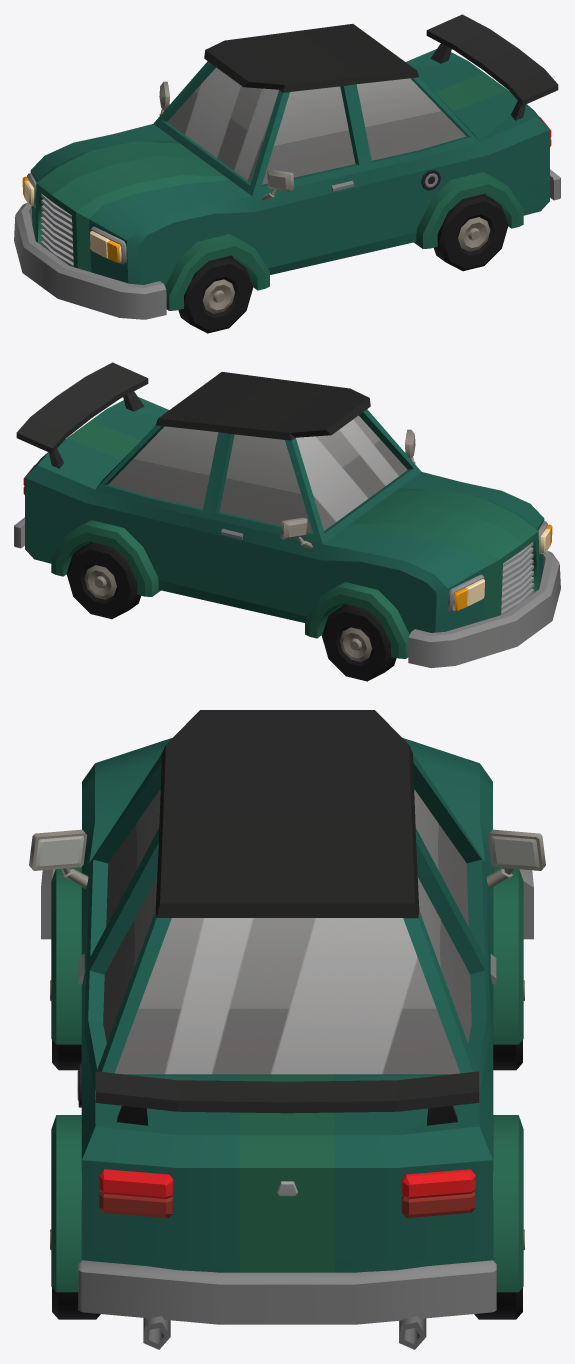
The model's file is Car_1_O.gltf.
The picture shows the model from 3 angles, top to bottom: view 1: azimuth 30°, elevation 25°; view 2: azimuth 150°, elevation 25°; view 3: azimuth 270°, elevation 25°; orthographic projection. The views are drawn at different scales.
Visible parts, largest first — view 1: Car_1_O, RL, FL; view 2: Car_1_O, RR, FR; view 3: Car_1_O, RL, RR, FR, FL.
Boxes of the visible parts, x1,y1,x2,y2 form: Car_1_O: (14,14,560,319); RL: (434,194,508,271); FL: (178,256,252,333); Car_1_O: (14,362,560,668); RR: (66,542,140,619); FR: (322,604,396,681); Car_1_O: (29,710,545,1349); RL: (50,1229,100,1319); RR: (474,1229,524,1319); FR: (493,980,524,1070); FL: (50,980,81,1070).
Bounding box in the file's own units: 3.64 × 1.5 × 1.7.
Materials: 4 (4 with a texture image).
